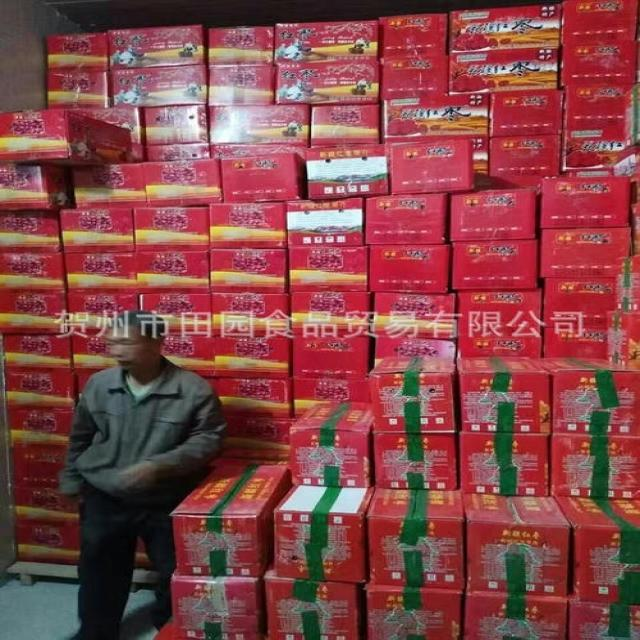box: (170, 464, 292, 576), (463, 494, 570, 597), (274, 485, 375, 583), (366, 490, 465, 589), (553, 497, 640, 603), (264, 559, 367, 640), (535, 359, 640, 438), (0, 108, 131, 166), (289, 401, 375, 486), (457, 357, 550, 432), (367, 356, 457, 433), (172, 570, 266, 640), (550, 433, 640, 499), (451, 3, 561, 53), (461, 433, 548, 496), (366, 583, 462, 640), (383, 94, 488, 144), (449, 48, 557, 95), (535, 176, 630, 229), (463, 592, 566, 640), (372, 433, 458, 489), (390, 139, 475, 195), (305, 144, 389, 199), (108, 25, 209, 70), (275, 61, 379, 104), (451, 188, 535, 241), (220, 152, 307, 203), (539, 229, 631, 277), (110, 64, 206, 108), (275, 21, 378, 62), (366, 193, 448, 244), (453, 240, 538, 289), (209, 105, 310, 145), (370, 244, 452, 293), (372, 292, 454, 339), (288, 198, 365, 248), (489, 135, 561, 188), (143, 159, 221, 207), (1, 160, 74, 211), (210, 202, 287, 249), (488, 88, 563, 136), (289, 247, 369, 292), (543, 278, 614, 328), (563, 0, 640, 46), (73, 162, 148, 209), (458, 287, 543, 328), (291, 335, 369, 379), (60, 208, 134, 254), (210, 250, 287, 294), (212, 293, 289, 337), (134, 207, 209, 252), (292, 292, 370, 335), (567, 594, 640, 639), (215, 336, 291, 379), (562, 43, 636, 87), (378, 13, 448, 58), (566, 83, 636, 128), (136, 252, 209, 294), (380, 55, 448, 99), (69, 106, 146, 144), (140, 294, 211, 335), (209, 63, 275, 107), (218, 379, 292, 418), (0, 290, 67, 333), (294, 378, 369, 416), (64, 253, 137, 292), (15, 485, 79, 528), (4, 334, 72, 374), (143, 105, 209, 146), (311, 105, 380, 144), (457, 326, 541, 358), (0, 210, 61, 254), (562, 129, 625, 171), (8, 407, 74, 447), (68, 291, 137, 329), (15, 524, 79, 564), (374, 336, 456, 367), (209, 26, 274, 65), (47, 71, 111, 109), (5, 373, 74, 408), (47, 33, 108, 71), (0, 254, 65, 289), (161, 335, 214, 377), (13, 447, 70, 486), (209, 446, 289, 473), (227, 419, 298, 449), (607, 311, 640, 372), (543, 327, 607, 358), (73, 329, 116, 369), (211, 144, 307, 159), (616, 256, 640, 312), (146, 143, 210, 161), (625, 82, 640, 149), (612, 146, 640, 181), (77, 371, 101, 404), (475, 138, 488, 188), (136, 538, 154, 570), (631, 203, 640, 255), (567, 167, 613, 177), (308, 143, 378, 148), (131, 145, 145, 161), (205, 378, 218, 395)
